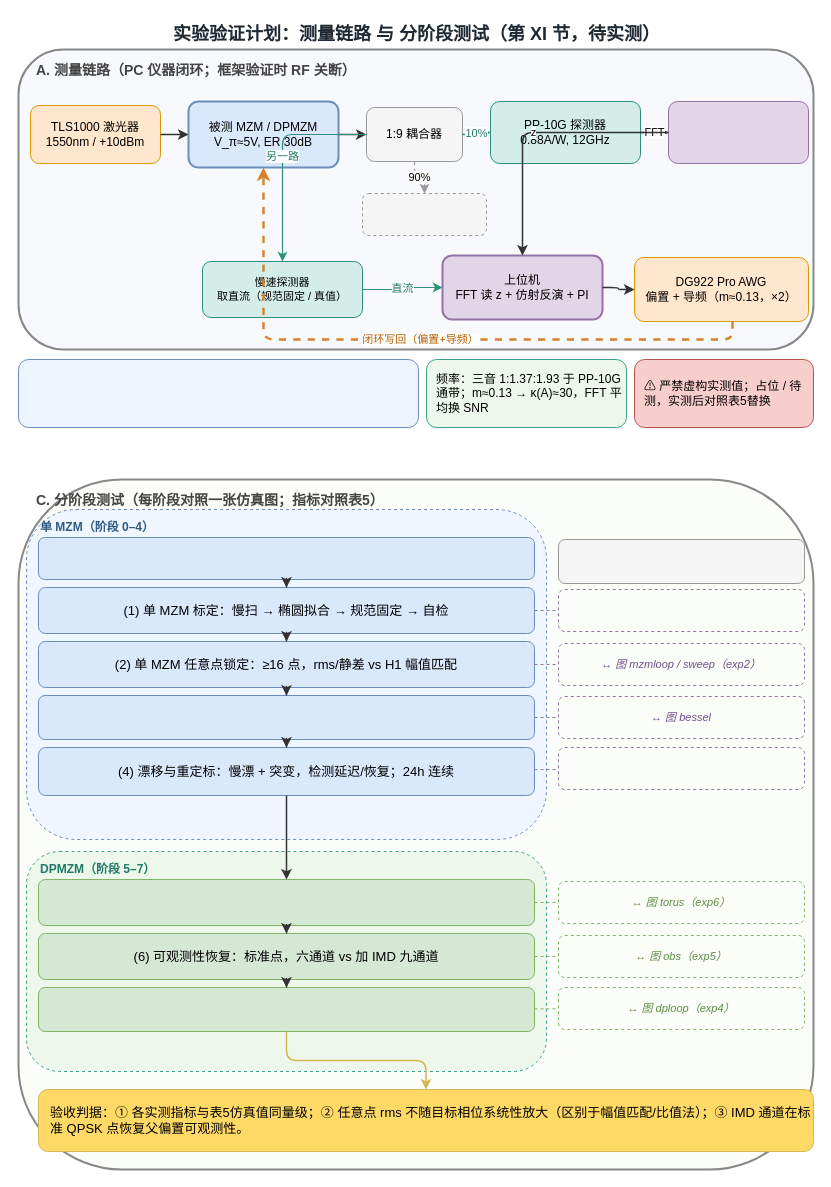
This 831x1187 diagram has some shape labels left out. Each missing label, with the centre of its shape:
"(0) 平台与 V_π 标定" belongs at [286,558].
"(3) 噪声与导频深度：残差随 φ 分布，扫 m，核对 κ(A)" belongs at [286,717].
"(5) 子轴 4π 与 Klein：扫 4V_π，φ 与 φ+2π 可区分" belongs at [286,902].
"(7) 任意点三轴锁定：vs 三独立环失锁率 / 静差" belongs at [286,1009].
"90% 主输出（RF 关断）" belongs at [424,214].
"SDS824X HD 示波器 200MHz, 12bit" belongs at [738,132].
"↔ 图 ellipse（exp1）" belongs at [681,610].
"↔ 图 recal（exp3）" belongs at [681,768].
"环境：PC 环路 ~Hz ≫ 漂移（mrad/min）" belongs at [681,561].
"相位真值：开环慢扫 P(V_b)，极值定 V_π/φ₀ → φ(V_b) 基准；DPMZM 固定父偏置逐子轴扫" belongs at [218,393].
